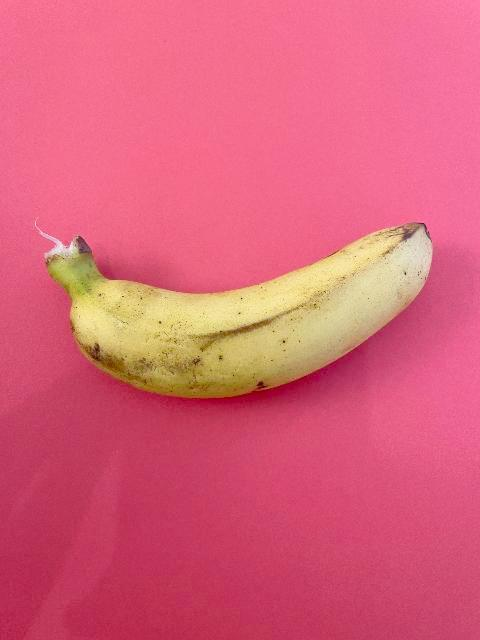banana: (43, 220, 434, 400)
